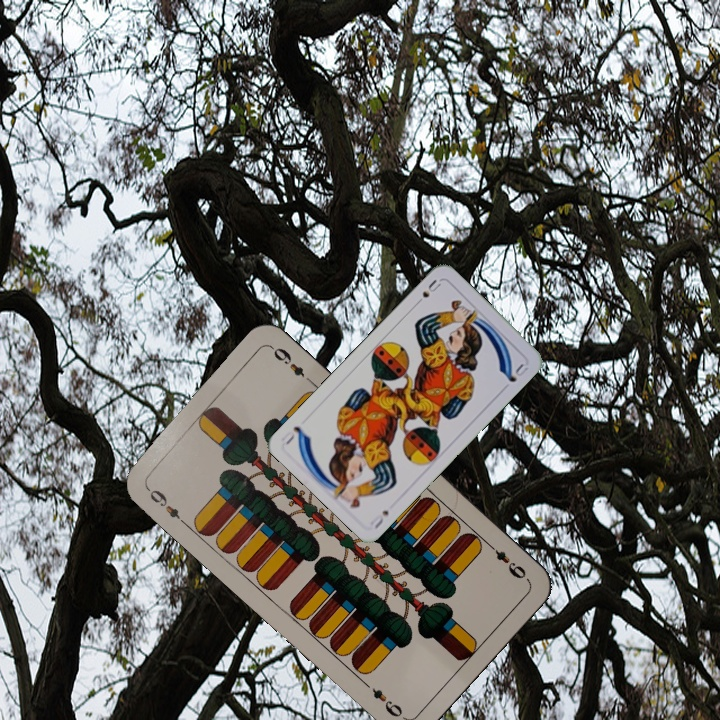E9: (142, 483, 189, 528), (483, 538, 529, 582)
SU: (411, 275, 444, 309), (366, 506, 391, 531)
